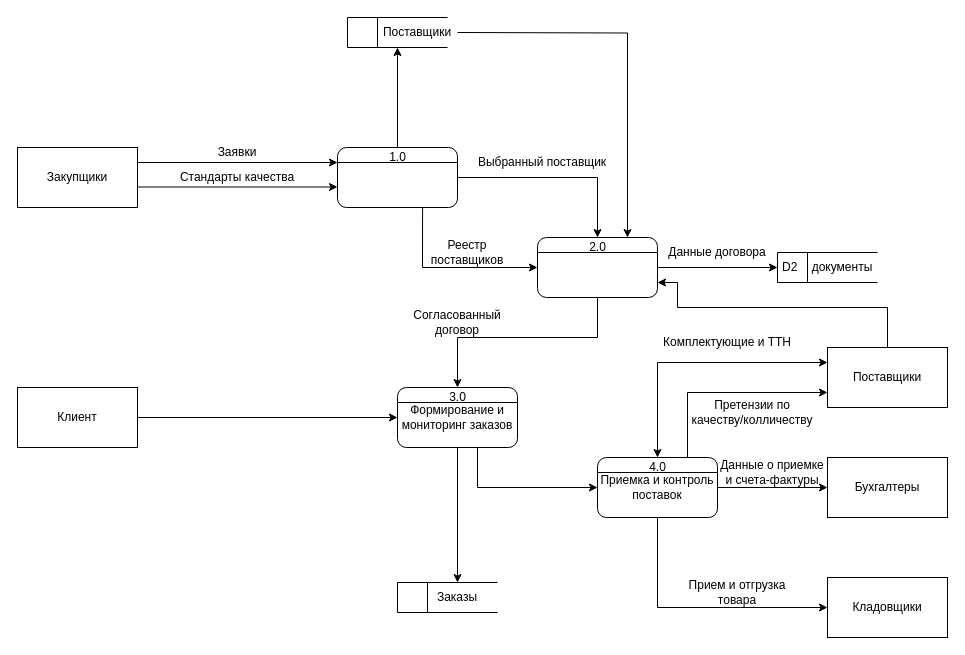
Some shapes in this 965 by 655 pixel diagram are drawn without their labels. Here are the shapes that lost their labels. From the top down, the box of each, then its label:
(346, 16, 448, 48): D1
(336, 146, 458, 208): Автоматический подбор поставщика
(536, 236, 658, 298): Согласование и заключение договора
(396, 582, 498, 612): D3
